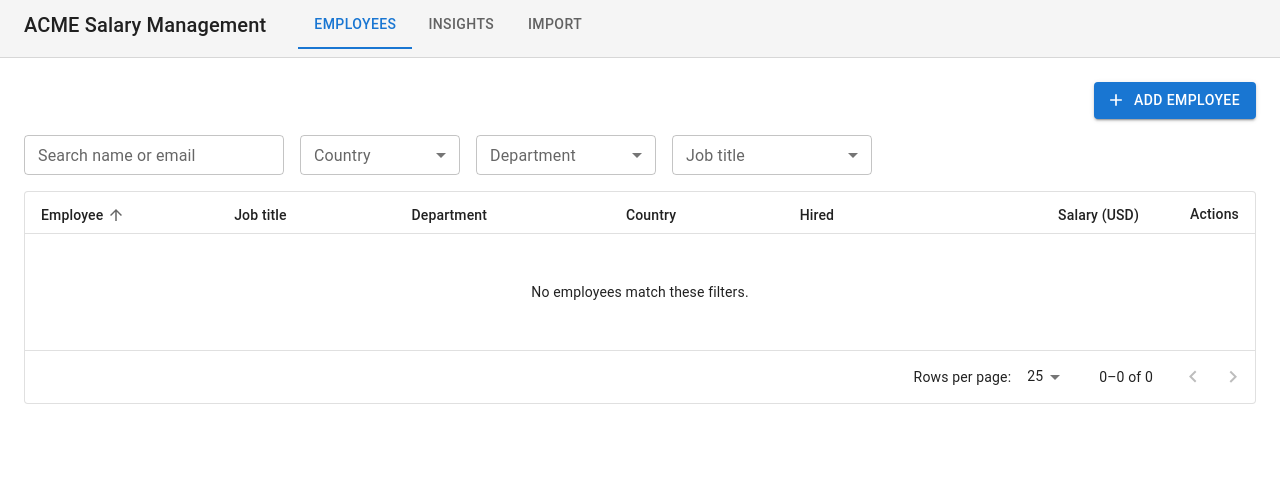
it: App › navigates to the import page from the tabs
Click the tab "Import" at (555, 24), box [528,16,582,32]
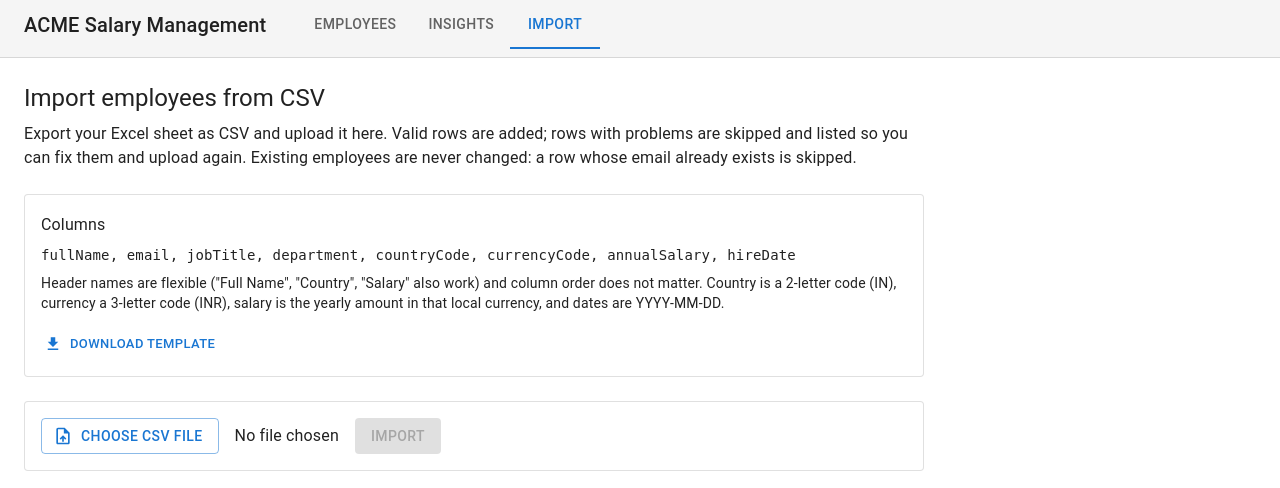
Now the heading "Import employees from CSV" is shown, box [24,84,325,112]
